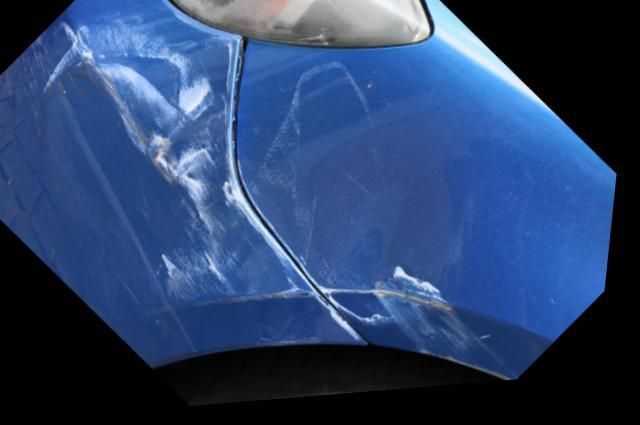scratch: (0, 16, 312, 327), (258, 61, 528, 388)
